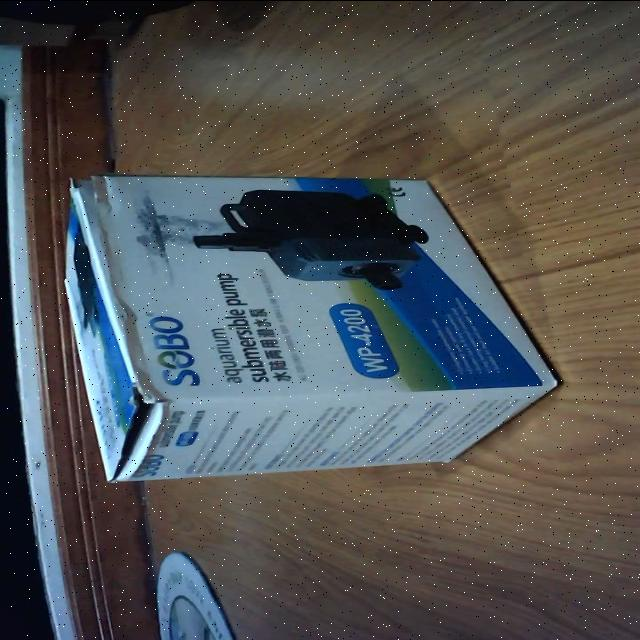SOBO_WP_4200: (59, 175, 566, 483)
